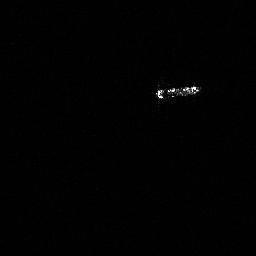ship: (157, 85, 200, 98)
